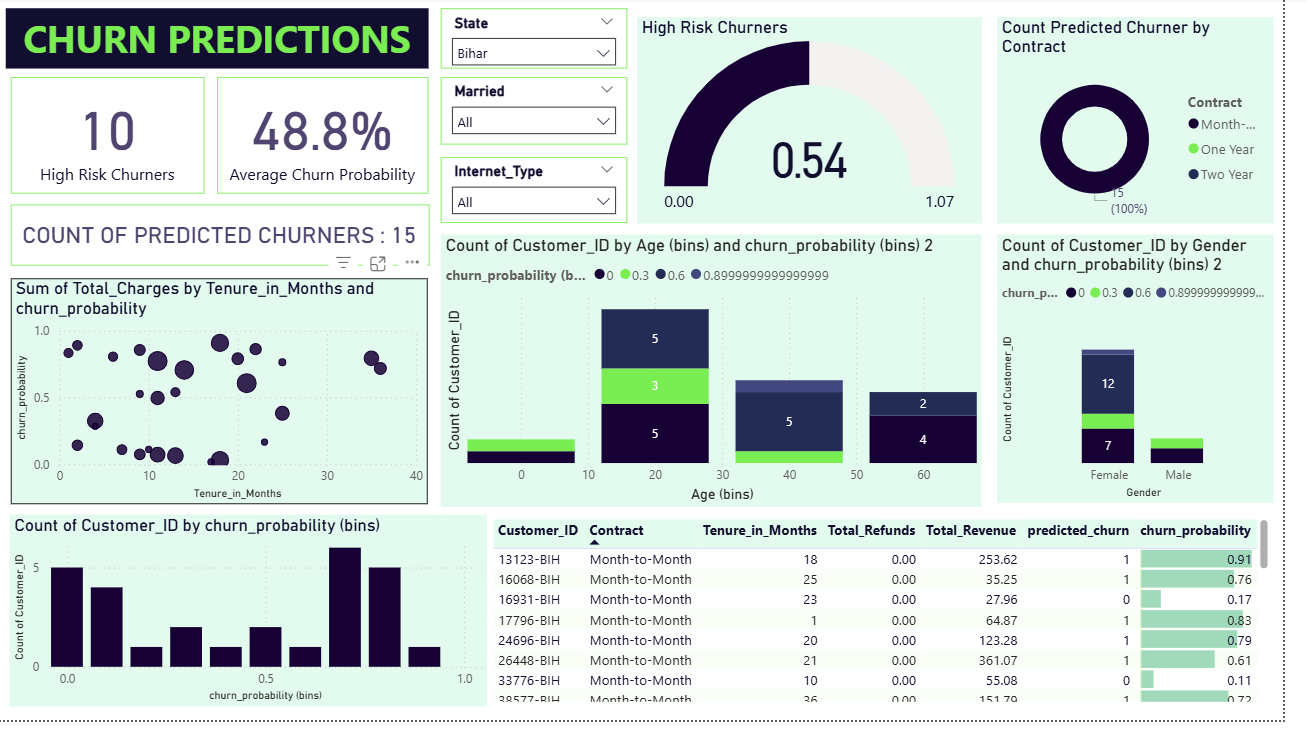

The page's visual inventory and layout, read from the dashboard file:
{"tool":"powerbi","page":{"name":"Predictions","canvas":[1280,720],"ordinal":1},"visuals":[{"type":"tableEx","fields":{"Values":["churn_predictions.Customer_ID","churn_predictions.Contract","churn_predictions.Tenure_in_Months","churn_predictions.Total_Refunds","churn_predictions.Total_Revenue","churn_predictions.predicted_churn","churn_predictions.churn_probability"]},"box":[487.6,515,782.5,191.6],"z":0},{"type":"card","fields":{"Values":["Measure_tbl.Title Predicted Churners"]},"box":[13.7,206.5,416.7,61],"z":1000},{"type":"gauge","title":"High Risk Churners","fields":{"Y":["Measure_tbl.HighRiskPct"]},"box":[636.9,19.9,343.3,205.3],"z":2000},{"type":"clusteredColumnChart","title":"Customer ID by Churn Probability","fields":{"Category":["churn_predictions.churn_probability (bins)"],"Y":["CountNonNull(churn_predictions.Customer_ID)"]},"box":[12.4,515,475.2,191.6],"z":3000},{"type":"card","fields":{"Values":["Avg(churn_predictions.churn_probability)"]},"box":[218.9,79.6,210.2,115.7],"z":4000},{"type":"card","fields":{"Values":["Measure_tbl.HighRisk"]},"box":[13.7,79.6,192.8,115.7],"z":5000},{"type":"scatterChart","title":"Total Charges by Tenure and Churn Probability","fields":{"X":["churn_predictions.Tenure_in_Months"],"Y":["churn_predictions.churn_probability"],"Size":["Sum(churn_predictions.Total_Charges)"]},"box":[13.7,279.9,415.5,225.2],"z":6000},{"type":"donutChart","fields":{"Category":["churn_predictions.Contract"],"Y":["Measure_tbl.Count Predicted Churner"]},"box":[995.2,19.9,274.9,205.3],"z":7000},{"type":"columnChart","title":"Customer ID by Gender and Churn Probability ","fields":{"Category":["churn_predictions.Gender"],"Series":["churn_predictions.churn_probability (bins) 2"],"Y":["CountNonNull(churn_predictions.Customer_ID)"]},"box":[995.2,236.4,274.9,267.5],"z":8000},{"type":"columnChart","title":"Customer ID by Age and Churn Probability ","fields":{"Category":["churn_predictions.Age (bins)"],"Y":["CountNonNull(churn_predictions.Customer_ID)"],"Series":["churn_predictions.churn_probability (bins) 2"]},"box":[441.6,236.4,538.6,271.2],"z":8001},{"type":"slicer","fields":{"Values":["churn_predictions.State"]},"box":[441.6,11.2,185.3,59.7],"z":8002},{"type":"slicer","fields":{"Values":["churn_predictions.Married"]},"box":[441.6,79.6,185.3,67.2],"z":8003},{"type":"textbox","box":[8.7,11.2,420.5,59.7],"z":8004},{"type":"slicer","fields":{"Values":["churn_predictions.Internet_Type"]},"box":[441.6,159.2,185.3,65.9],"z":8005}]}

Visuals, with their boxes in screenshot pixels (x1, y1, x2, y2), scaled from the page's 1280x720 canvas onto the 1307x729 screenshot:
tableEx - churn_predictions.Customer_ID x churn_predictions.Contract: 498,521,1297,715
card - Measure_tbl.Title Predicted Churners: 14,209,439,271
"High Risk Churners" gauge: 650,20,1001,228
"Customer ID by Churn Probability" clusteredColumnChart: 13,521,498,715
card - Avg(churn_predictions.churn_probability): 224,81,438,198
card - Measure_tbl.HighRisk: 14,81,211,198
"Total Charges by Tenure and Churn Probability" scatterChart: 14,283,438,511
donutChart - churn_predictions.Contract x Measure_tbl.Count Predicted Churner: 1016,20,1297,228
"Customer ID by Gender and Churn Probability " columnChart: 1016,239,1297,510
"Customer ID by Age and Churn Probability " columnChart: 451,239,1001,514
slicer - churn_predictions.State: 451,11,640,72
slicer - churn_predictions.Married: 451,81,640,149
textbox: 9,11,438,72
slicer - churn_predictions.Internet_Type: 451,161,640,228
